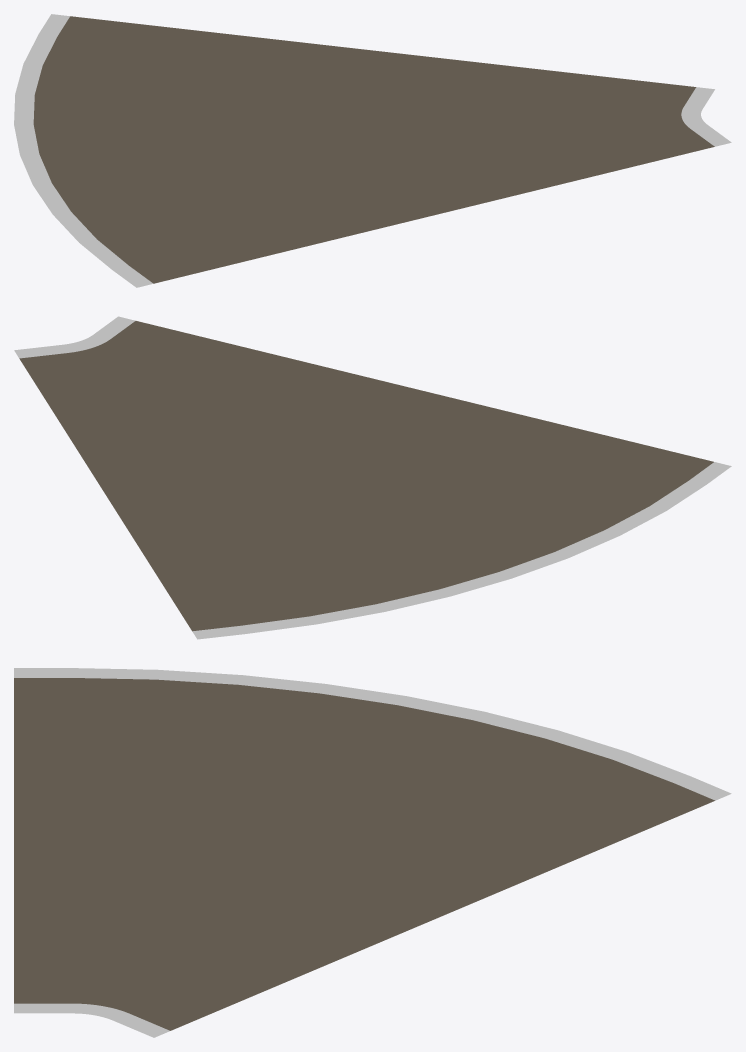
The picture shows the model from 3 angles, top to bottom: view 1: azimuth 30°, elevation 25°; view 2: azimuth 150°, elevation 25°; view 3: azimuth 270°, elevation 25°; orthographic projection. The views are drawn at different scales.
Parts seen in each view (by area): view 1: s-45; view 2: s-45; view 3: s-45.
Part boxes in pixels (x1,y1,x2,y2): s-45: (14, 14, 731, 287); s-45: (14, 316, 731, 639); s-45: (14, 668, 731, 1037).
Size of the model in its own units: 2627 by 0 by 2155.
